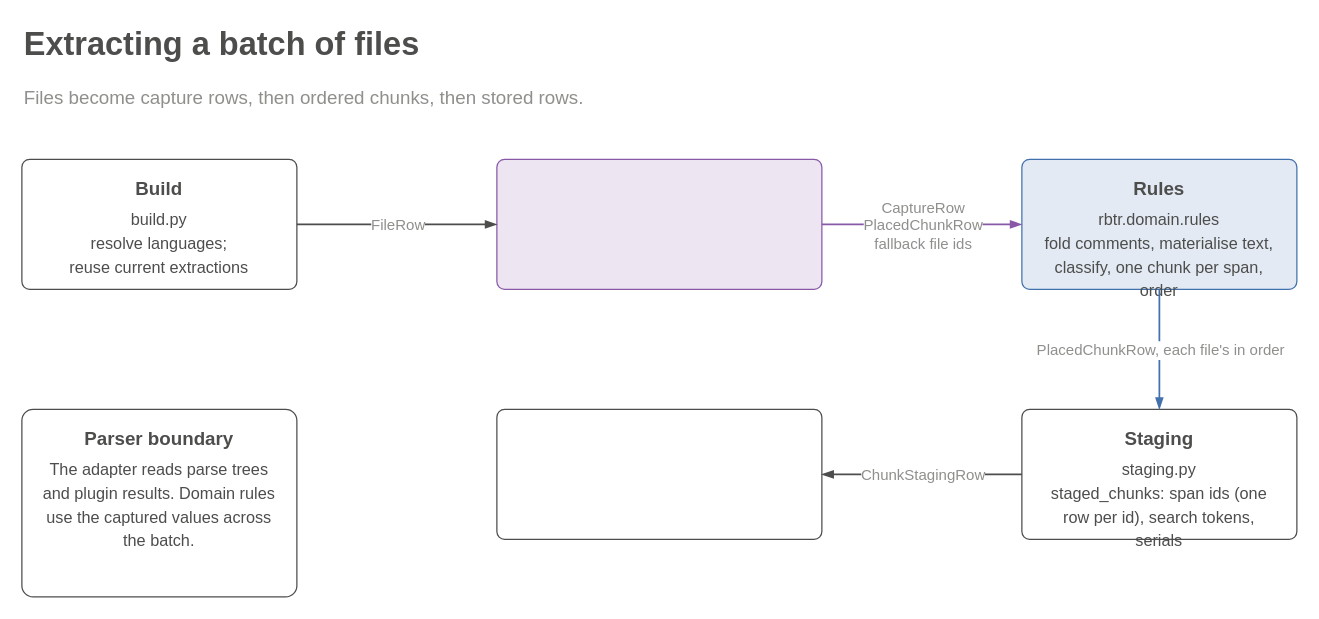
Some shapes in this 1319 by 619 pixel diagram are drawn without their labels. The shapes that lost their labels are listed below. From the top down, each one's centre as x and y in pixels, then its label:
At [659,223]: "Adapter treesitter.read parse sources and resolve capture spans".
At [659,473]: "WriteSession writer.py replace_chunks: each blob's old chunks out, the batch in".
